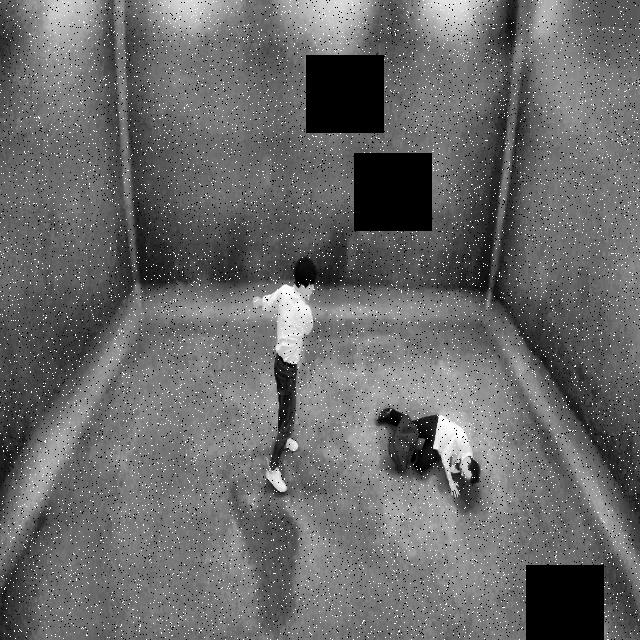assult: (244, 250, 487, 520)
